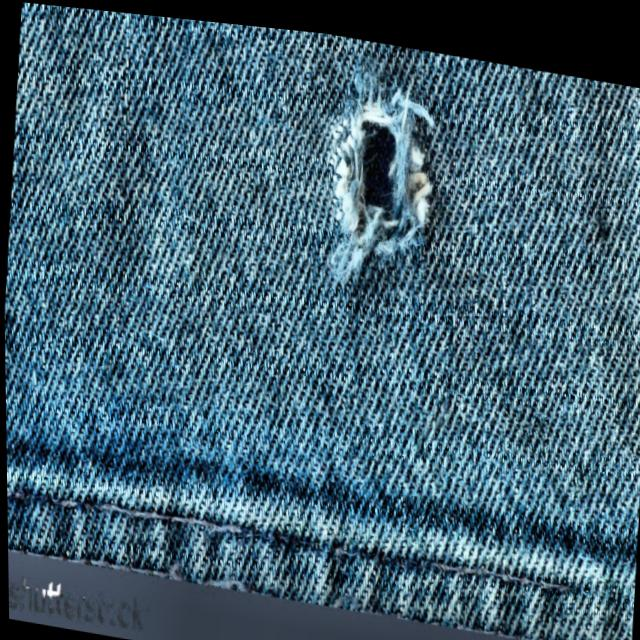Hole: (303, 47, 460, 302)
